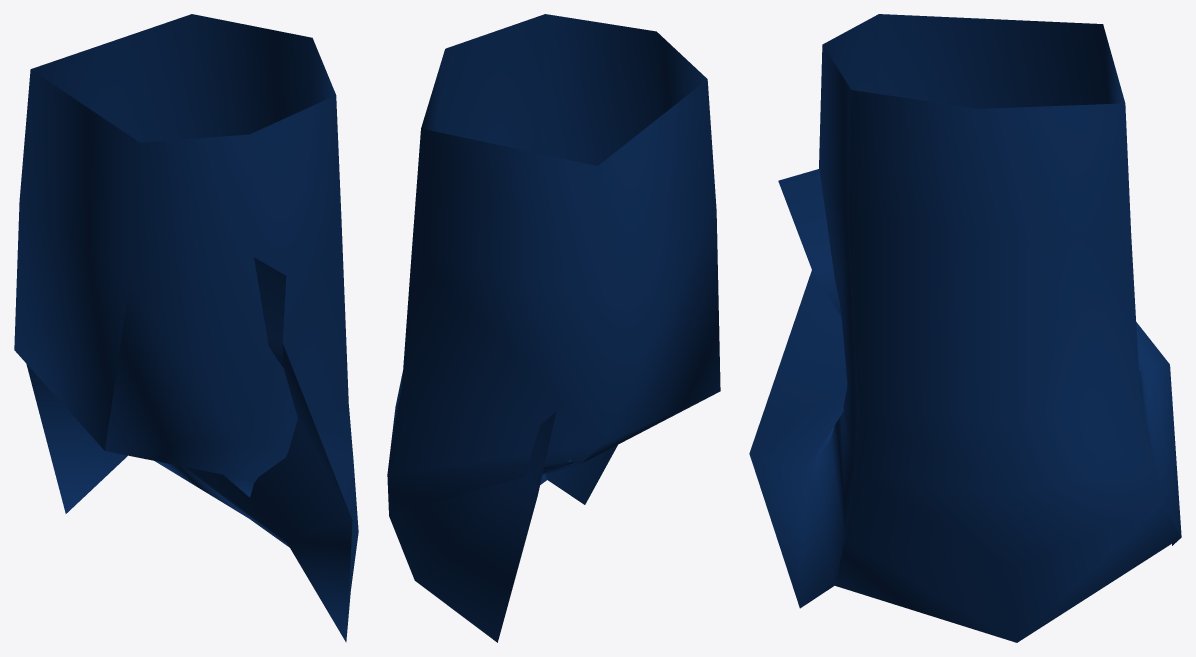
The model's file is right_arm.glb.
3 renders of one model, left to right at view 1: azimuth 30°, elevation 25°; view 2: azimuth 150°, elevation 25°; view 3: azimuth 270°, elevation 25°, orthographic. The views are drawn at different scales.
Visible parts, largest first — view 1: polo-navy_RIGHT_ARM; view 2: polo-navy_RIGHT_ARM; view 3: polo-navy_RIGHT_ARM.
Part boxes in pixels (x1,y1,x2,y2): polo-navy_RIGHT_ARM: [14, 14, 358, 642]; polo-navy_RIGHT_ARM: [387, 14, 720, 642]; polo-navy_RIGHT_ARM: [749, 14, 1181, 642].
Bounding box in the file's own units: 0.1394 × 0.252 × 0.1856.
Materials: 1 (1 with a texture image).
